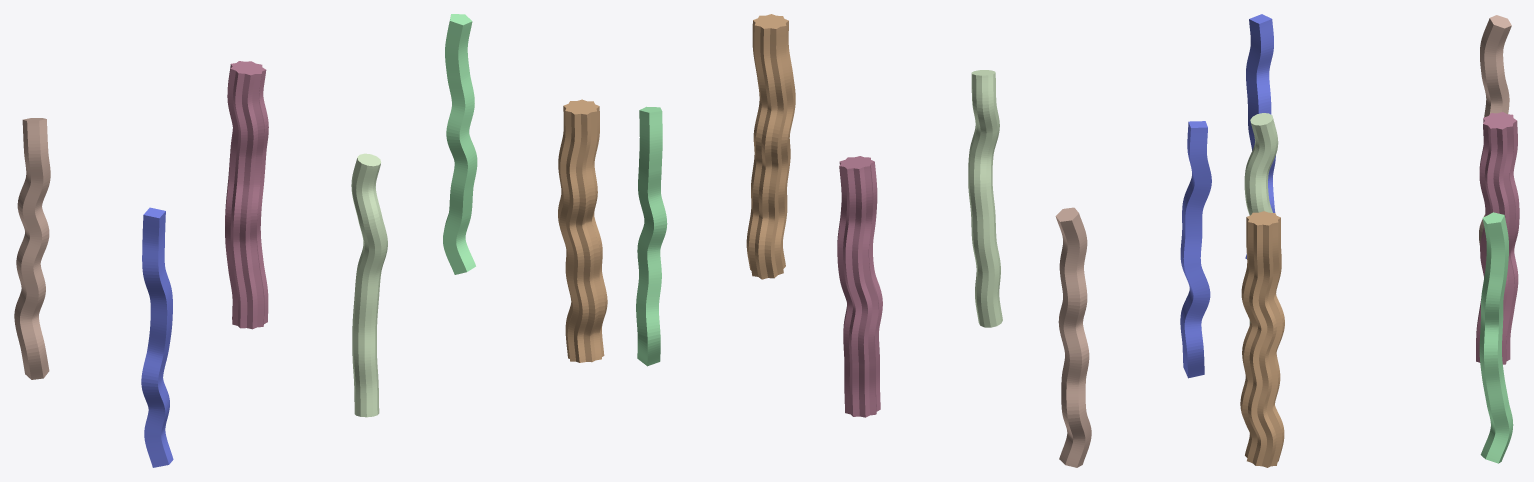
File: Standard Bump Mapped_Opened Spline_2023-07-23-20-47-45.gltf
The picture shows the model from 3 angles, left to right: view 1: azimuth 30°, elevation 25°; view 2: azimuth 150°, elevation 25°; view 3: azimuth 270°, elevation 25°; orthographic projection. The views are drawn at different scales.
Bounding box in the file's own units: 433 × 232 × 238.
